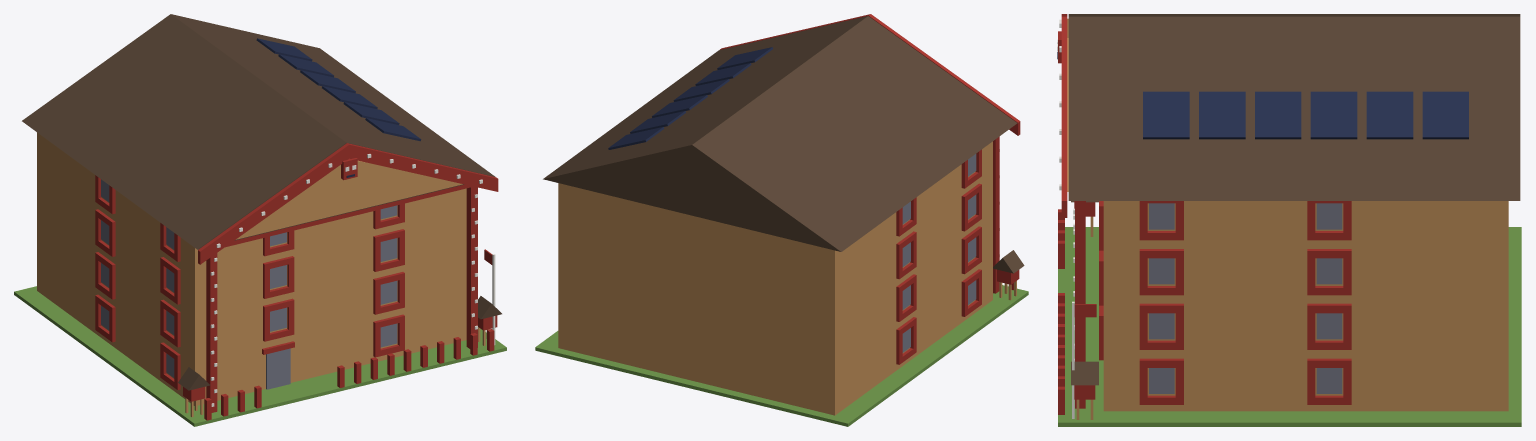
Rendered from house-2x2-4f-whare-a-solar.glb.
3 views of the same model, side by side, from view 1: azimuth 30°, elevation 25°; view 2: azimuth 150°, elevation 25°; view 3: azimuth 270°, elevation 25° (orthographic). The views are drawn at different scales.
Visible parts, largest first — view 1: house-2x2-4f-whare-a-solar; view 2: house-2x2-4f-whare-a-solar; view 3: house-2x2-4f-whare-a-solar.
Part boxes in pixels (x1,y1,x2,y2): house-2x2-4f-whare-a-solar: (14, 14, 506, 426); house-2x2-4f-whare-a-solar: (535, 14, 1028, 426); house-2x2-4f-whare-a-solar: (1057, 14, 1521, 426).
Bounding box in the file's own units: 2 × 1.48 × 1.99.
1 material, 1 textured.
